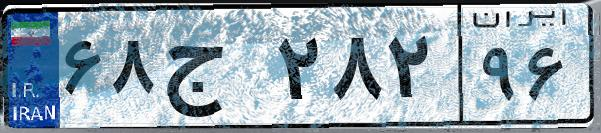2: (270, 28, 330, 110), (385, 28, 445, 110)
6: (57, 26, 110, 100), (525, 38, 570, 115)
8: (330, 28, 385, 110), (110, 28, 158, 98)
9: (475, 38, 525, 113)
ج: (158, 20, 270, 120)
